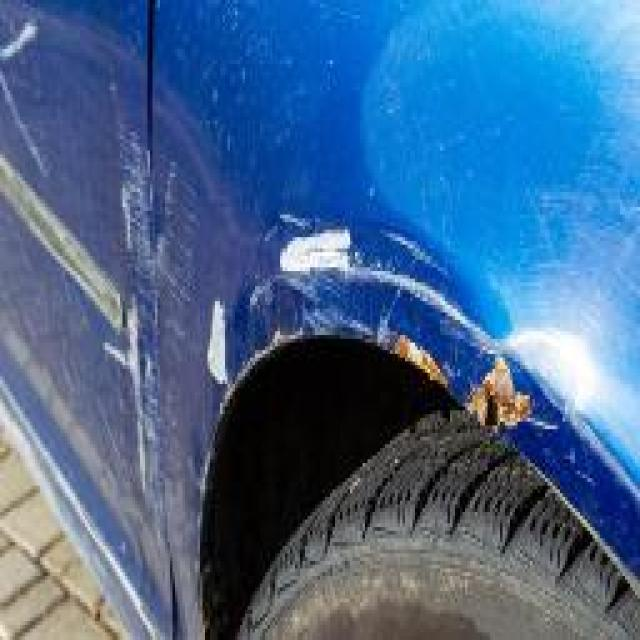Door: (0, 0, 167, 640)
Fender: (137, 0, 640, 610)
